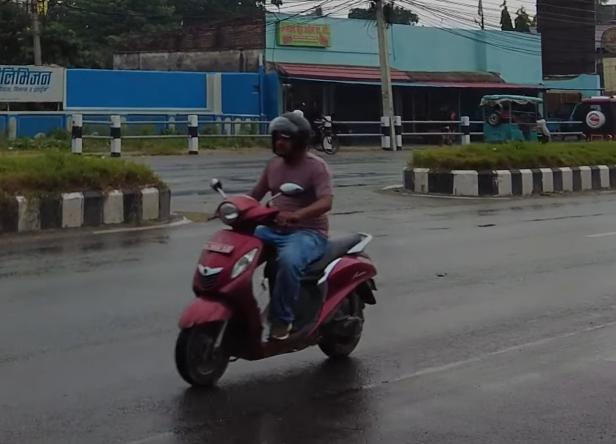scooter: (173, 175, 388, 391)
